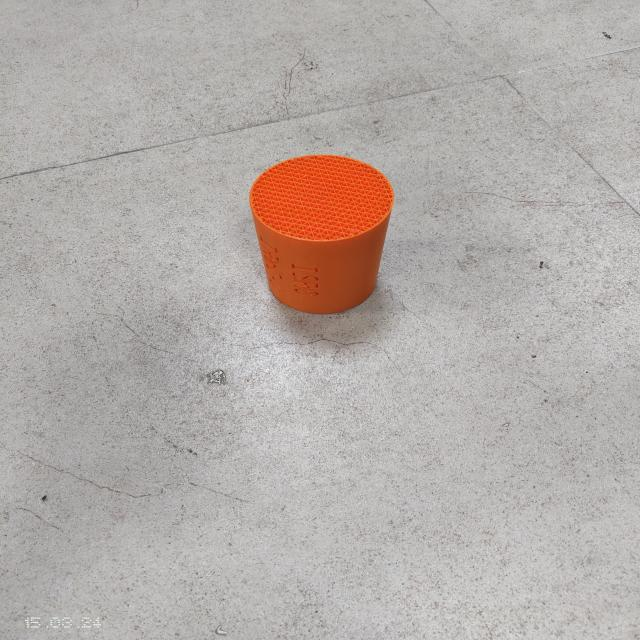Cylinder: (248, 153, 394, 315)
